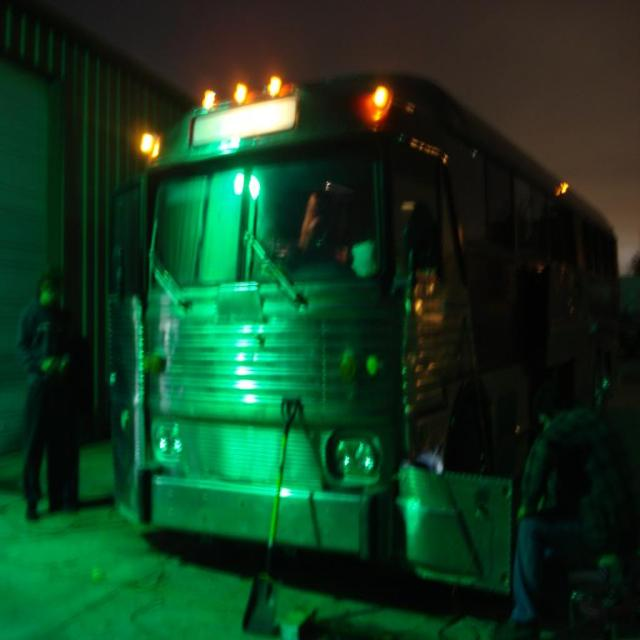Bus: (127, 89, 640, 640)
People: (498, 366, 640, 640), (5, 229, 94, 501)
